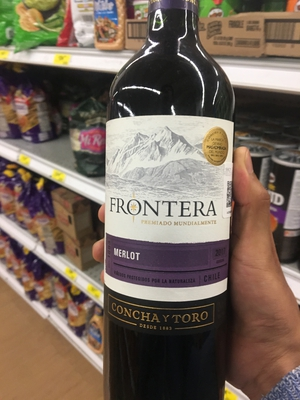frontera merlot: (91, 6, 273, 400)
